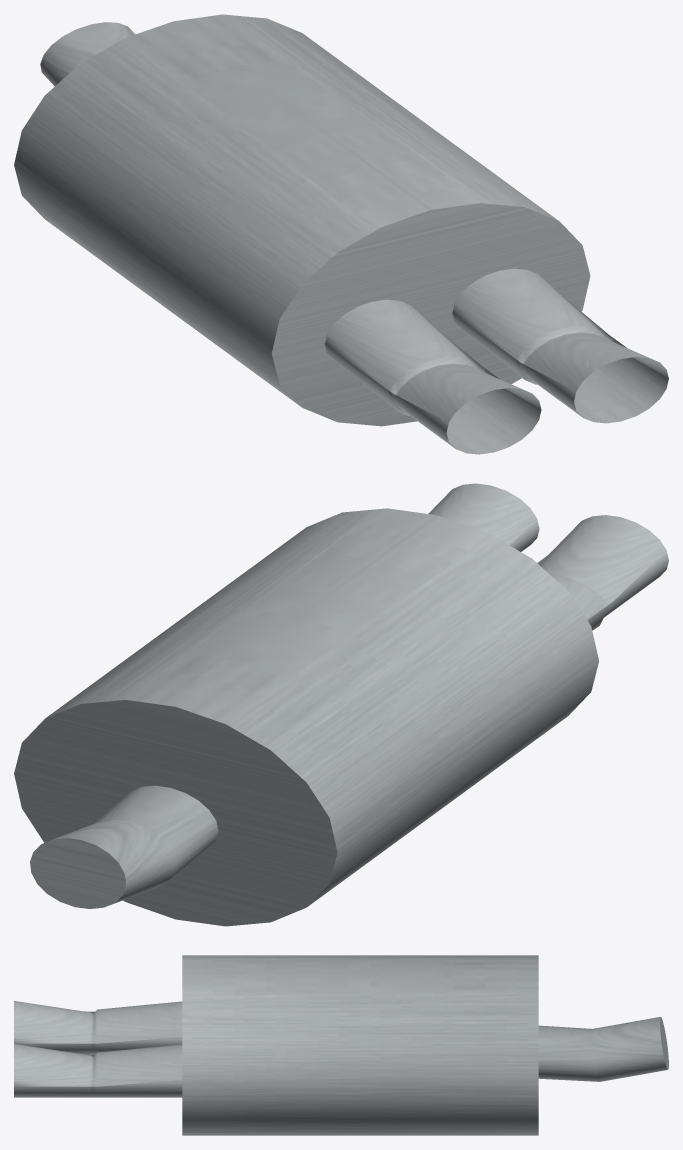
Rendered from exsause.fbx.
3 views of the same model, one above another, from view 1: azimuth 30°, elevation 25°; view 2: azimuth 150°, elevation 25°; view 3: azimuth 270°, elevation 25° (orthographic). The views are drawn at different scales.
Parts seen in each view (by area): view 1: pCylinder1, pCylinder5, pCylinder6, pCylinder2; view 2: pCylinder1, pCylinder2, pCylinder5, pCylinder6; view 3: pCylinder1, pCylinder6, pCylinder5, pCylinder2.
Part boxes in pixels (x1,y1,x2,y2): pCylinder1: (14, 14, 590, 426); pCylinder5: (325, 299, 541, 454); pCylinder6: (452, 268, 668, 423); pCylinder2: (40, 22, 135, 86); pCylinder1: (14, 508, 598, 926); pCylinder2: (30, 785, 218, 908); pCylinder5: (537, 515, 668, 630); pCylinder6: (428, 483, 539, 551); pCylinder1: (182, 955, 538, 1135); pCylinder6: (14, 1044, 182, 1097); pCylinder5: (14, 1001, 182, 1054); pCylinder2: (538, 1017, 668, 1081).
Bounding box in the file's own units: 3.07 × 1.93 × 7.9.
